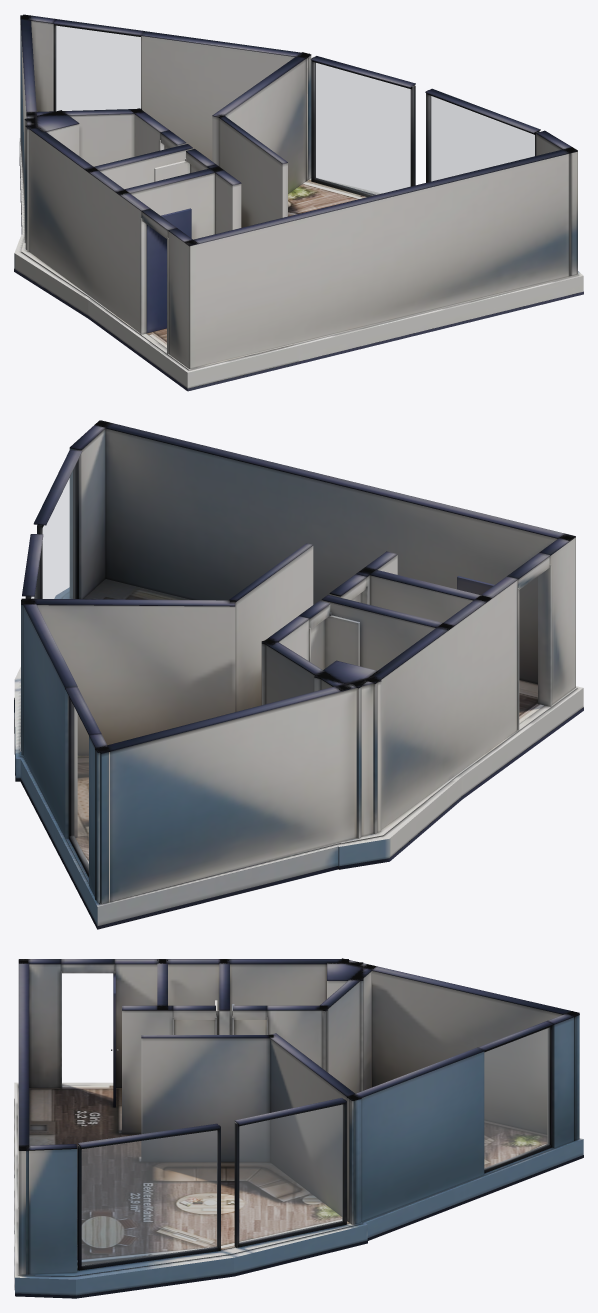
The picture shows the model from 3 angles, top to bottom: view 1: azimuth 30°, elevation 25°; view 2: azimuth 150°, elevation 25°; view 3: azimuth 270°, elevation 25°; orthographic projection. The views are drawn at different scales.
Parts seen in each view (by area): view 1: plan, glass1_m, glass0_m, glass2_m; view 2: plan, glass2_m, glass0_m; view 3: plan, glass2_m, glass1_m, glass0_m.
Part boxes in pixels (x1,y1,x2,y2): plan: (14,14,583,391); glass1_m: (315,63,410,194); glass0_m: (55,26,140,110); glass2_m: (430,96,534,181); plan: (14,420,583,929); glass2_m: (43,466,75,598); glass0_m: (71,702,88,868); plan: (14,958,583,1298); glass2_m: (82,1130,217,1266); glass1_m: (239,1105,342,1242); glass0_m: (484,1028,549,1168).
Size of the model in its own units: 7.84 by 2.62 by 9.39.
Materials: 2 (1 with a texture image).
